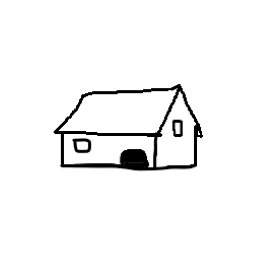door: (115, 147, 152, 176)
open_window: (71, 136, 94, 156), (172, 120, 187, 141)
roof: (51, 82, 209, 139)
small_house: (2, 4, 260, 259)
wall: (54, 123, 160, 178)
